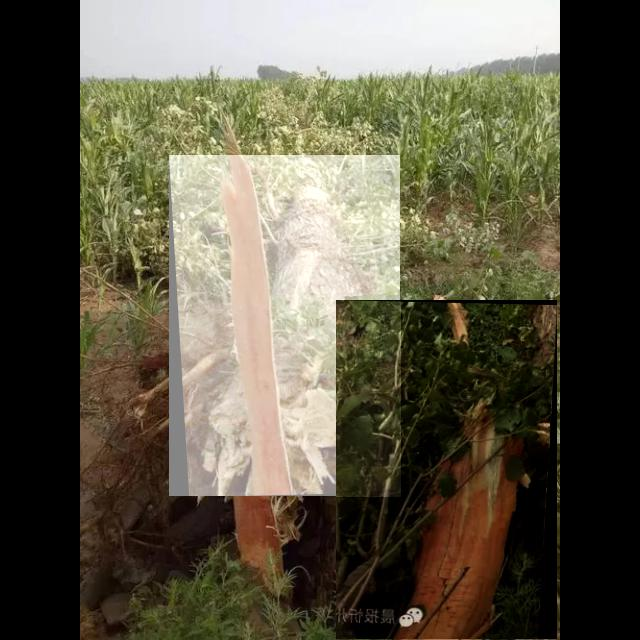Fallen Tree: (169, 155, 401, 497), (336, 300, 558, 640)
